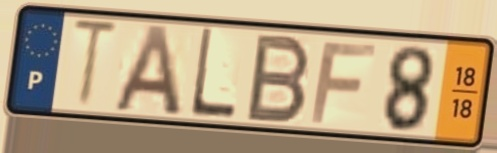8: (382, 42, 437, 134)
A: (109, 22, 185, 119)
B: (241, 32, 314, 126)
F: (307, 40, 380, 126)
L: (186, 26, 238, 123)
T: (69, 15, 123, 113)
